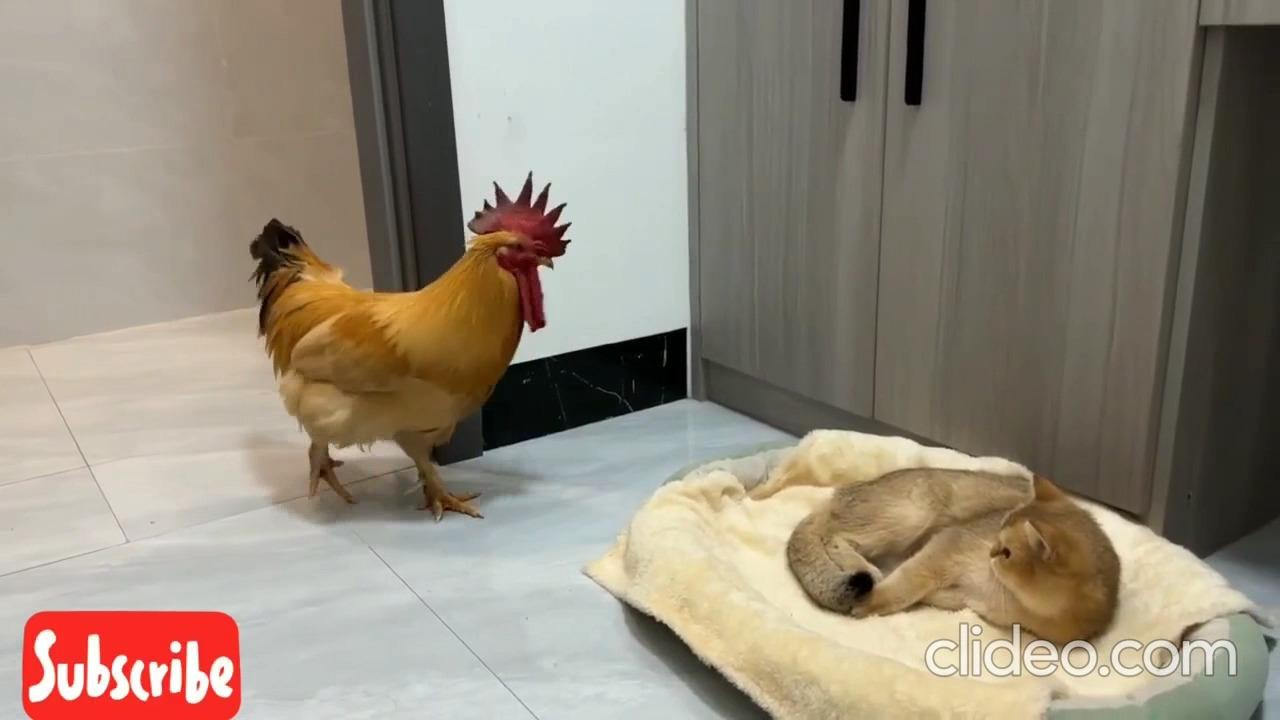Normal: (255, 185, 563, 516)
